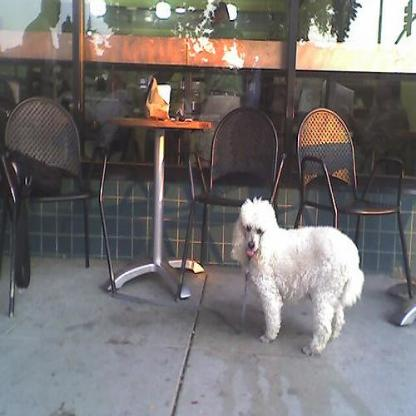miniature_poodle: (229, 193, 364, 356)
